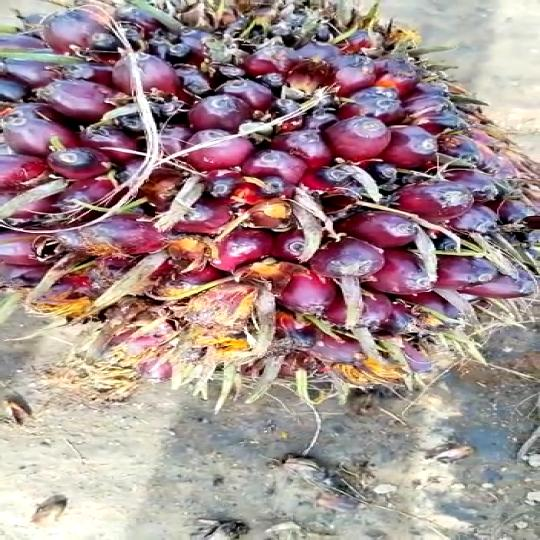masak: (0, 0, 540, 410)
